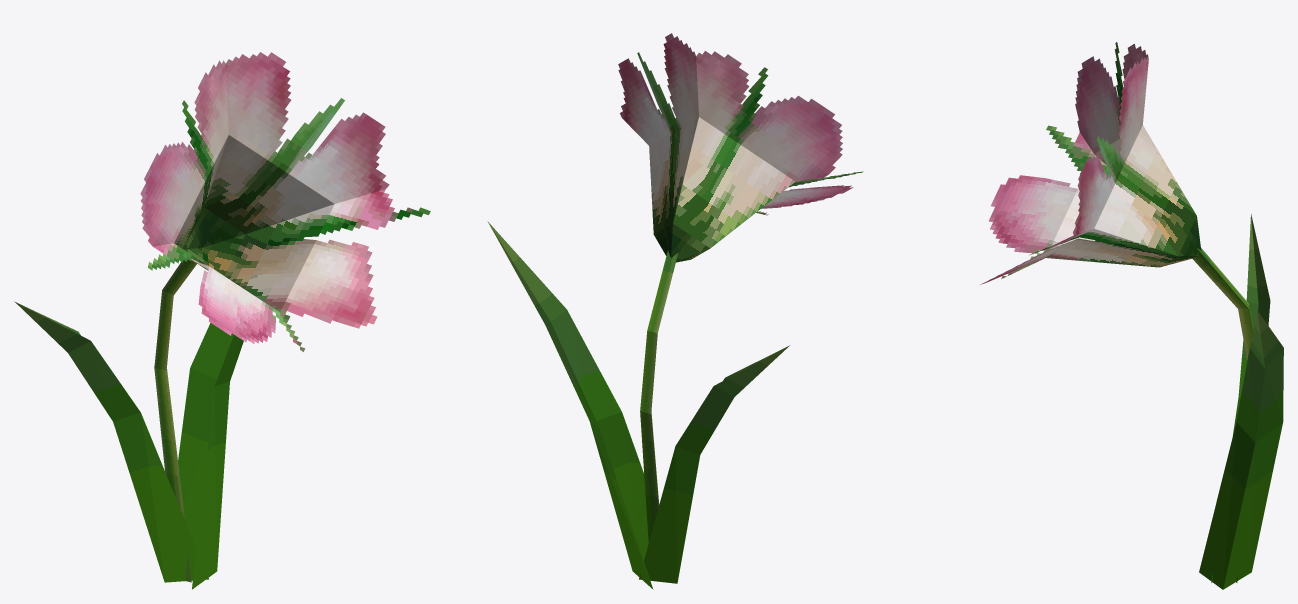
The model's file is pink_flower2.obj.
The picture shows the model from 3 angles, left to right: view 1: azimuth 30°, elevation 25°; view 2: azimuth 150°, elevation 25°; view 3: azimuth 270°, elevation 25°; orthographic projection. The views are drawn at different scales.
Visible parts, largest first — view 1: obj1; view 2: obj1; view 3: obj1.
Boxes of the visible parts, x1,y1,x2,y2 form: obj1: (14,52,430,589); obj1: (487,33,863,589); obj1: (980,42,1283,589).
Size of the model in its own units: 10 by 15.84 by 8.86.
Materials: 2 (2 with a texture image).
